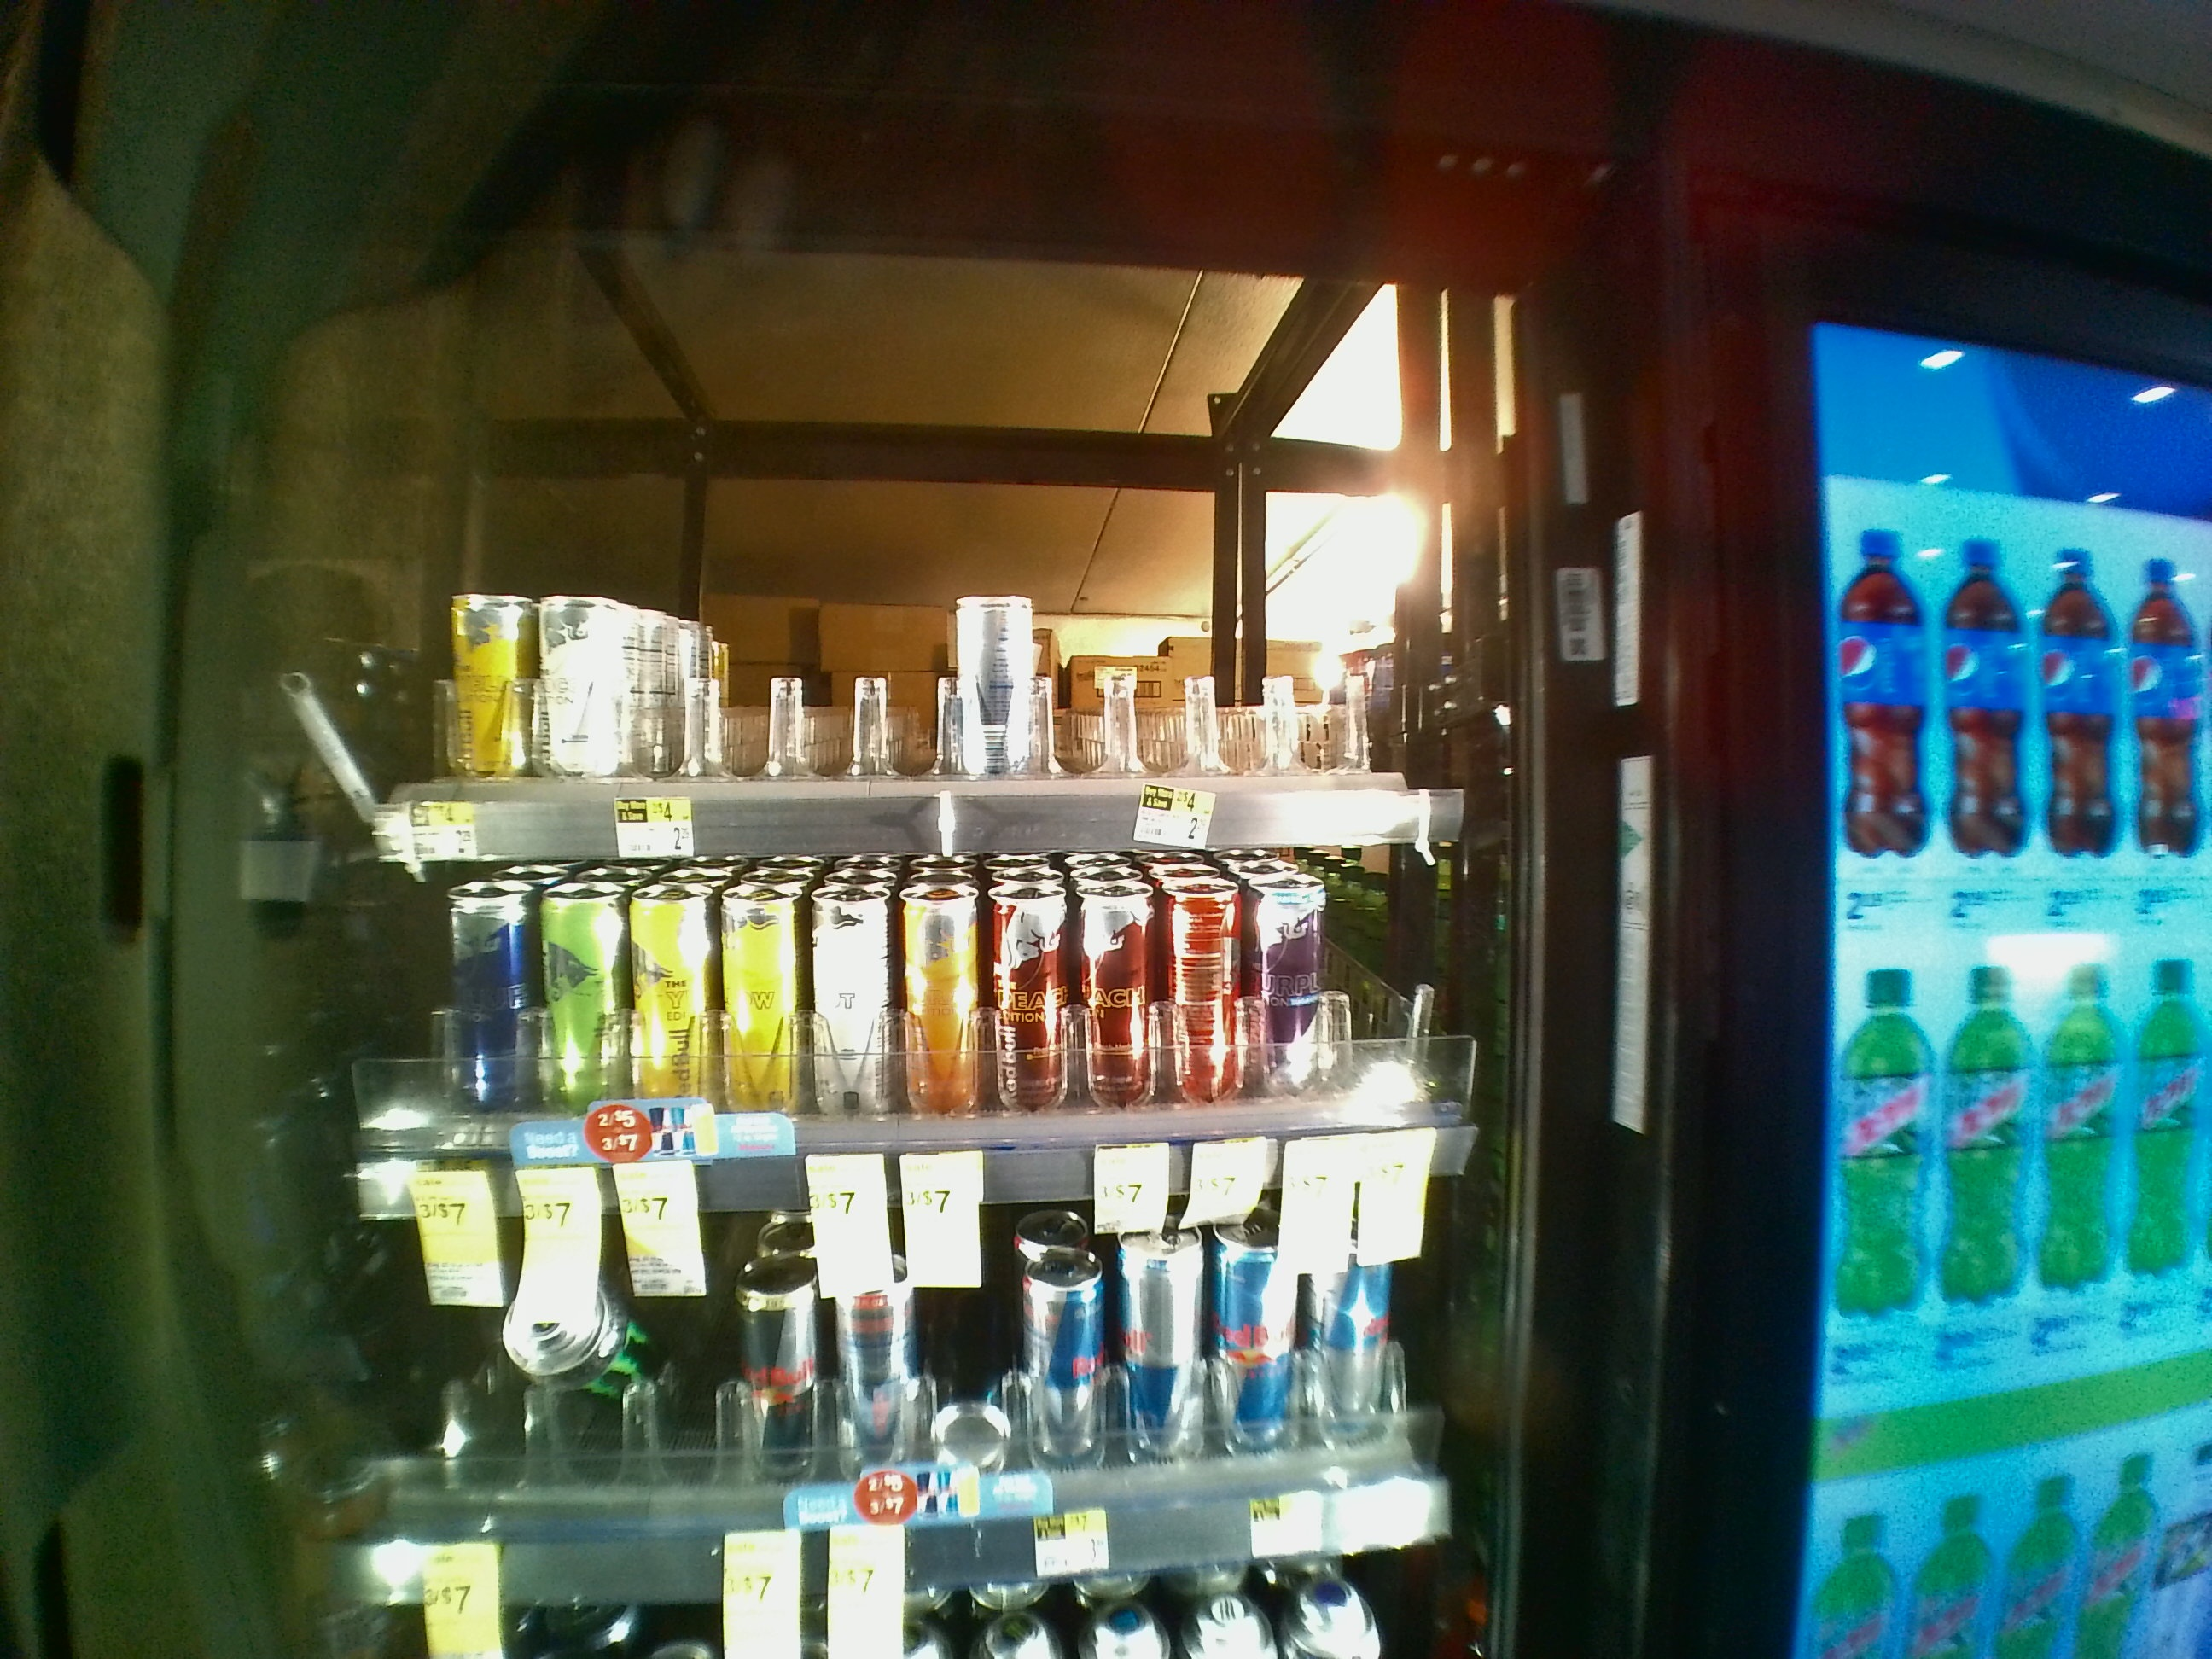shelf: (315, 225, 1541, 833), (300, 843, 1552, 1166)
